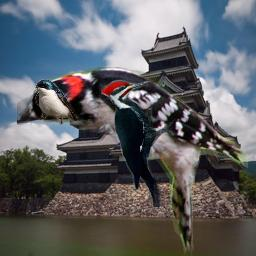Swallow: (35, 79, 78, 125)
Woodpecker: (17, 65, 250, 256), (101, 78, 177, 207)
